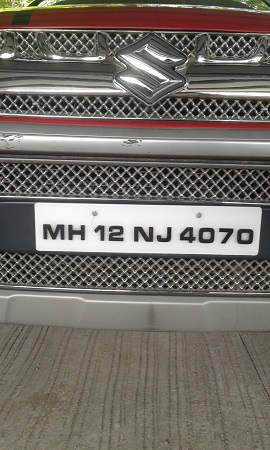licenseplate: (33, 200, 264, 263)
